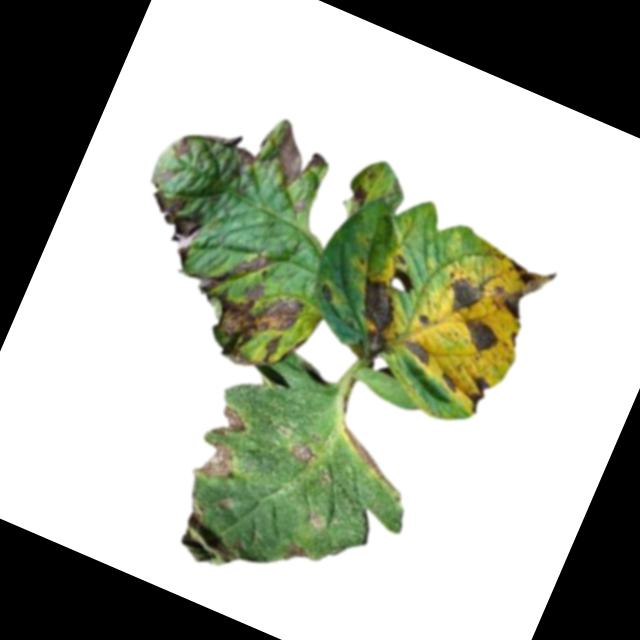Early_blight: (163, 231, 321, 382), (167, 497, 263, 584), (334, 273, 414, 372), (479, 248, 560, 331), (129, 186, 209, 269), (326, 424, 410, 491), (263, 122, 335, 198), (191, 438, 241, 488), (439, 270, 487, 320), (455, 314, 505, 360), (207, 402, 251, 448), (459, 374, 494, 417), (397, 335, 439, 369), (286, 440, 320, 471), (280, 540, 311, 569), (231, 144, 261, 171), (167, 134, 194, 164), (434, 371, 462, 397), (347, 182, 371, 207), (315, 284, 339, 307), (416, 314, 429, 328)
